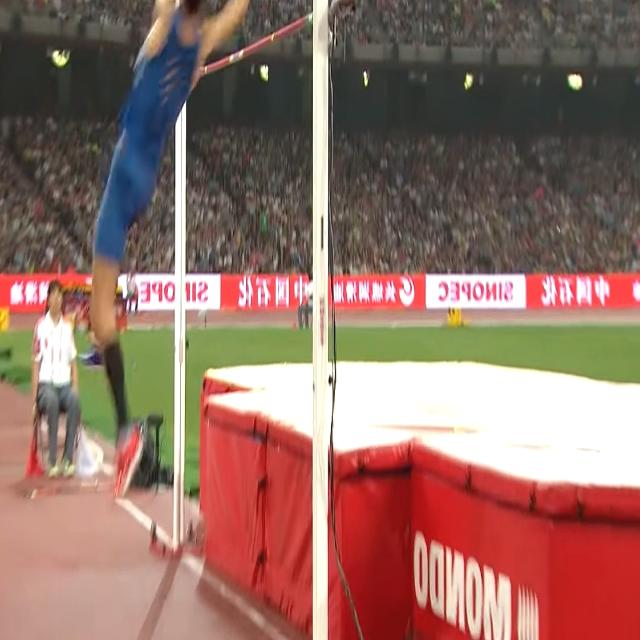jump: (91, 0, 272, 497)
